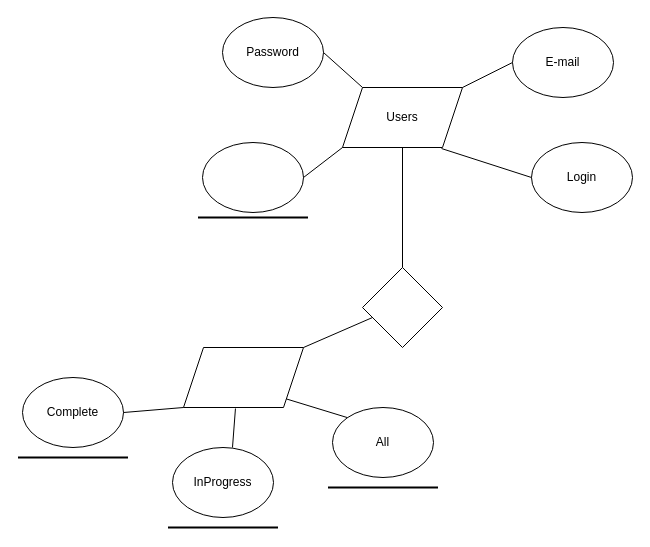
This 650x547 diagram has some shape labels left out. The centre of each missing label's shape, as x and y in pixels:
"Creates" goes at point (402, 307).
"Tasks" goes at point (243, 377).
"userID" goes at point (253, 177).
